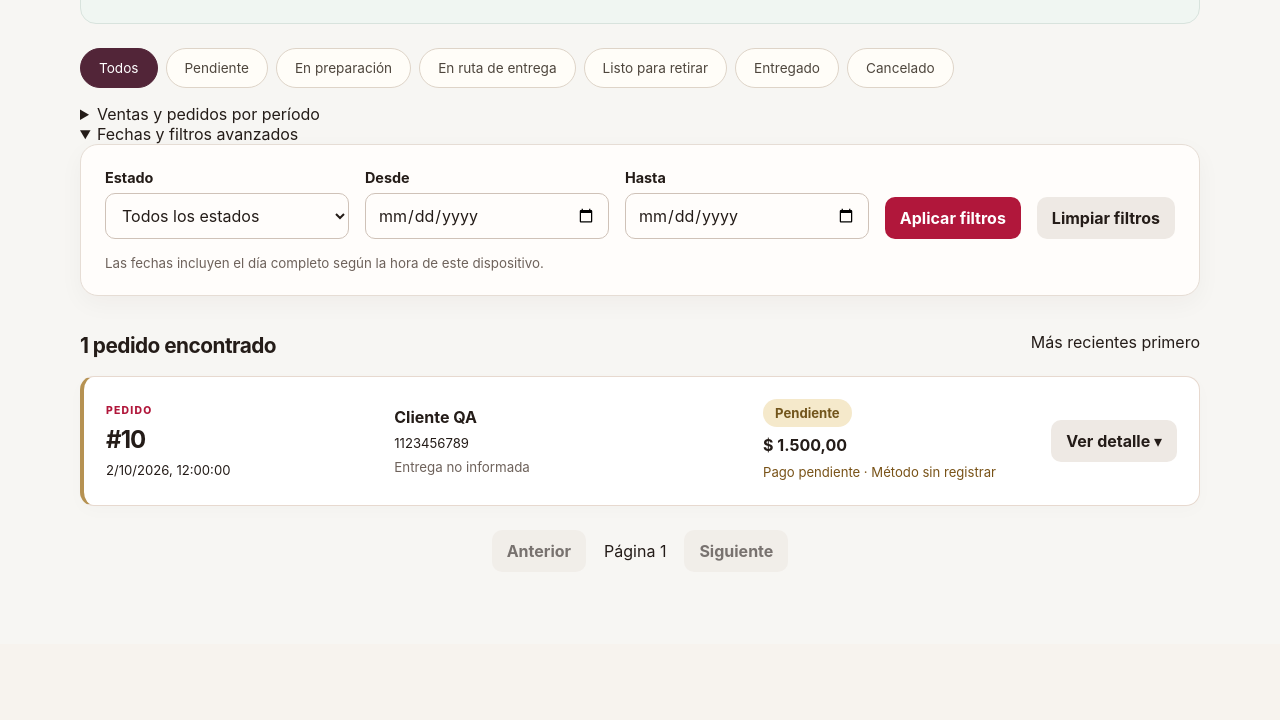
it: lectura no ofrece acciones y un pedido entregado no puede avanzar
(page scrolled)
Click the button with aria-label "Ver pedido #10". click: (1114, 441)
box: [1051,420,1177,462]
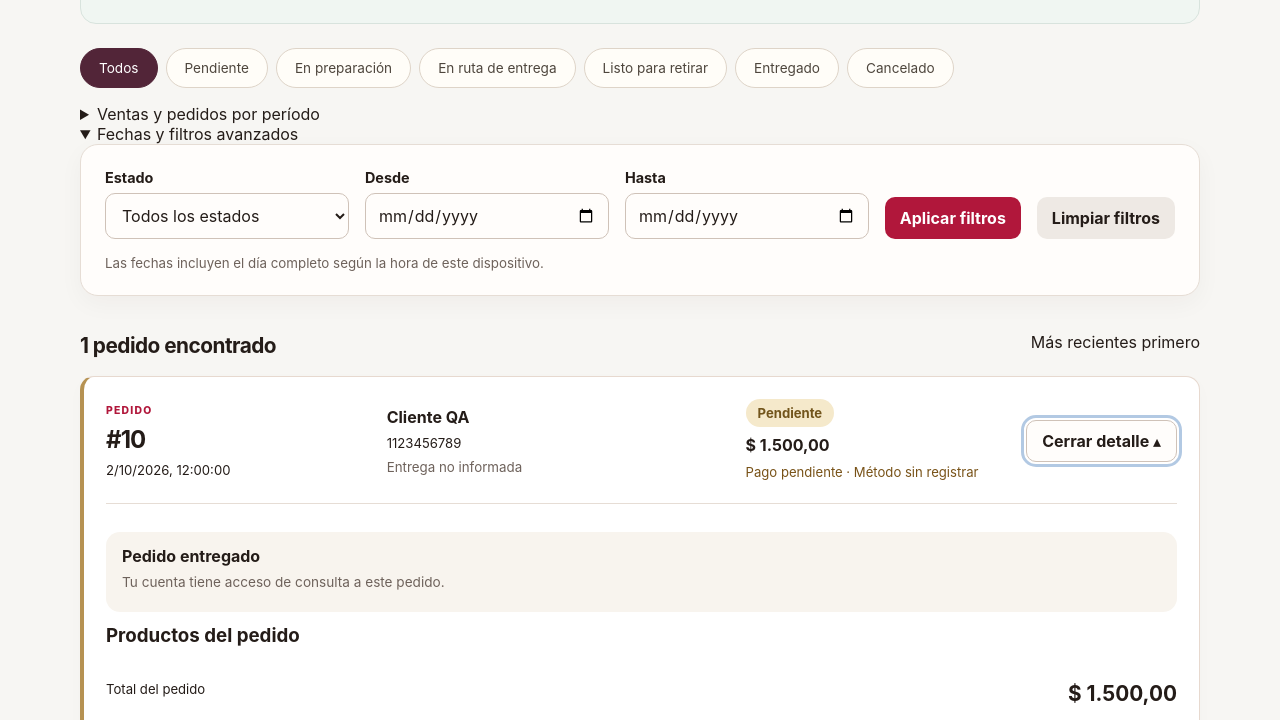
Expected: the text "Tu cuenta tiene acceso de consulta a este pedido." is shown, [122,574,445,590]
